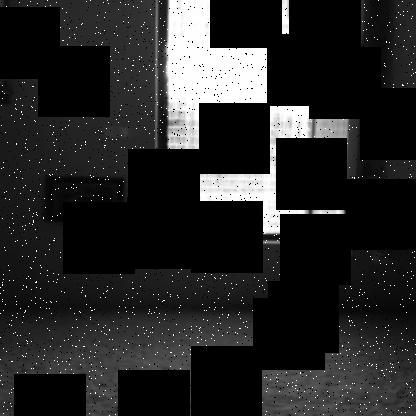Porte: (149, 1, 375, 260)
